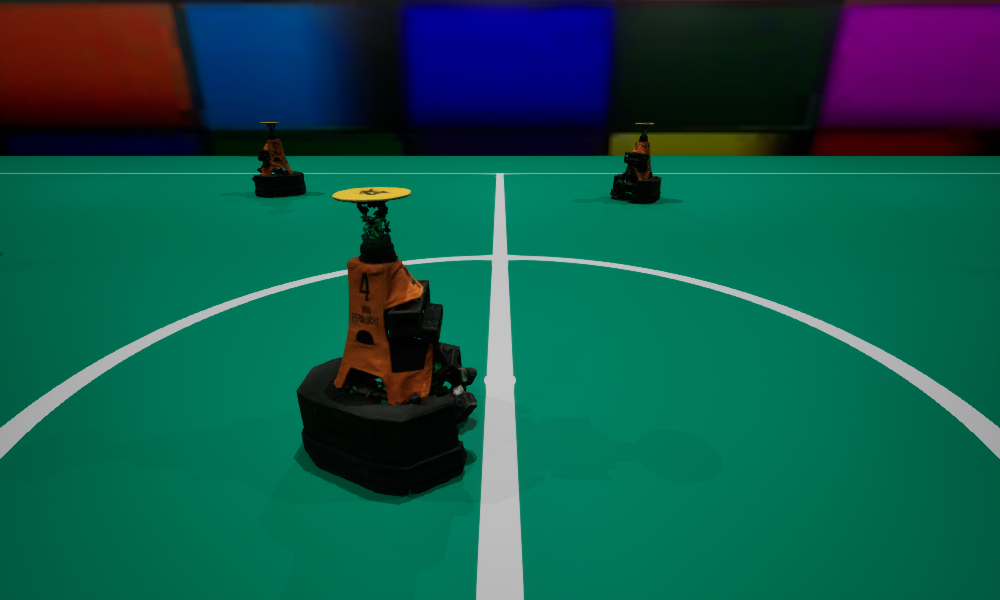o: (296, 187, 476, 496), (610, 123, 661, 202), (252, 122, 305, 197)
